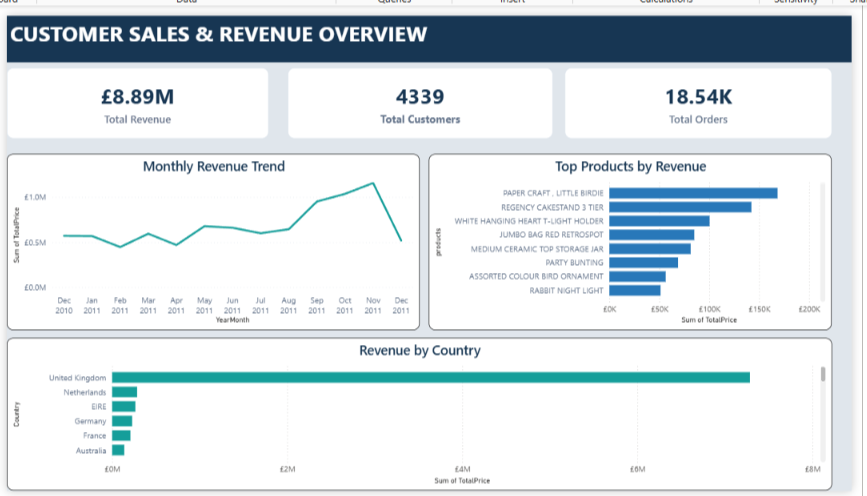

Layout of this report page (visuals, bound fields, positions):
{"tool":"powerbi","page":{"name":"Sales Overview","canvas":[1280,720],"ordinal":0},"visuals":[{"type":"card","fields":{"Values":["Sum(cleaned_data.TotalPrice)"]},"box":[0,79.3,396.6,106.9],"z":0},{"type":"card","fields":{"Values":["Count(cleaned_data.CustomerID)"]},"box":[425.9,79.3,401.7,106.9],"z":1000},{"type":"card","fields":{"Values":["Count(cleaned_data.InvoiceNo)"]},"box":[844.8,79.3,405.2,106.9],"z":2000},{"type":"lineChart","title":"Monthly Revenue Trend","fields":{"Category":["cleaned_data.YearMonth"],"Y":["Sum(cleaned_data.TotalPrice)"]},"box":[0,208.6,625.9,267.2],"z":3000},{"type":"barChart","title":"Revenue by Country","fields":{"Category":["cleaned_data.Country"],"Y":["Sum(cleaned_data.TotalPrice)"]},"box":[0,487.9,1250,231.4],"z":4000},{"type":"clusteredBarChart","title":"Top Products by Revenue","fields":{"Category":["cleaned_data.Description"],"Y":["Sum(cleaned_data.TotalPrice)"]},"box":[639.7,208.6,610.3,267.2],"z":5000},{"type":"textbox","box":[0,0,1280,70],"z":6000}]}

Visuals, with their boxes on the page's 1280x720 design canvas (x1, y1, x2, y2). These are canvas units, not pixel positions in the 867x496 screenshot, which may show the page scaled, cropped or inside an application window:
card - Sum(cleaned_data.TotalPrice): Rect(0, 79, 397, 186)
card - Count(cleaned_data.CustomerID): Rect(426, 79, 828, 186)
card - Count(cleaned_data.InvoiceNo): Rect(845, 79, 1250, 186)
"Monthly Revenue Trend" lineChart: Rect(0, 209, 626, 476)
"Revenue by Country" barChart: Rect(0, 488, 1250, 719)
"Top Products by Revenue" clusteredBarChart: Rect(640, 209, 1250, 476)
textbox: Rect(0, 0, 1280, 70)
